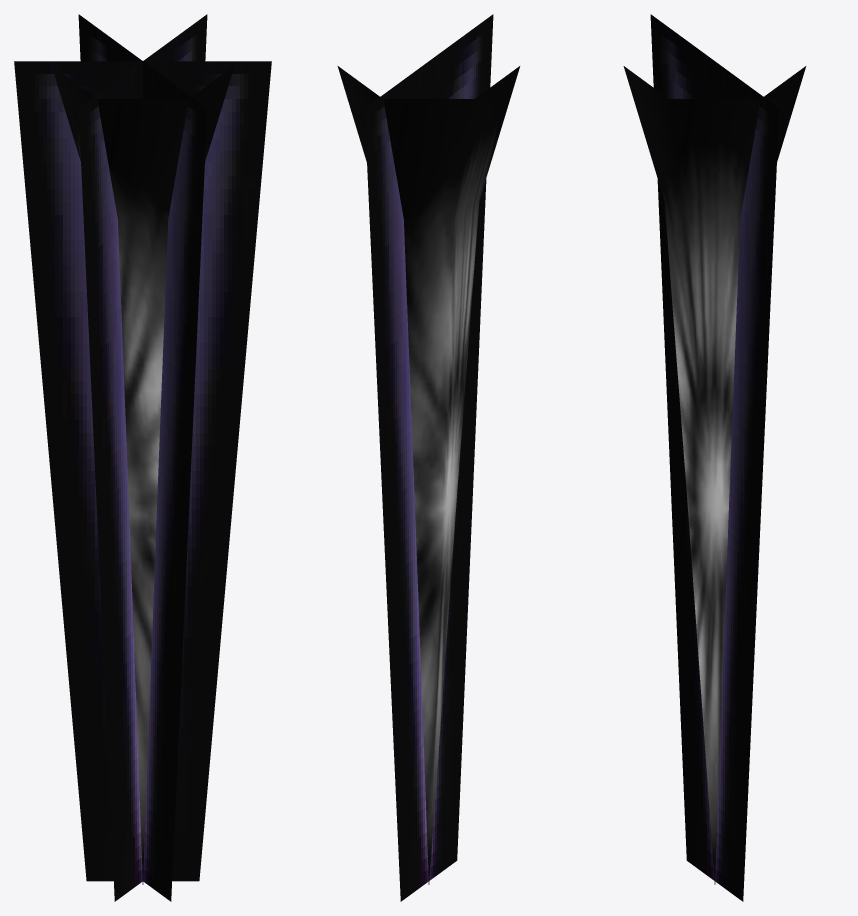
Rendered from m_Piercing.glb.
3 renders of one model, left to right at view 1: azimuth 30°, elevation 25°; view 2: azimuth 150°, elevation 25°; view 3: azimuth 270°, elevation 25°, orthographic.
Visible parts, largest first — view 1: model_m_Piercing; view 2: model_m_Piercing; view 3: model_m_Piercing.
Boxes of the visible parts, x1,y1,x2,y2 form: model_m_Piercing: (14,14,271,901); model_m_Piercing: (337,14,519,901); model_m_Piercing: (623,14,806,901).
Bounding box in the file's own units: 0.6537 × 2.67 × 0.7548.
2 materials, 2 textured.
